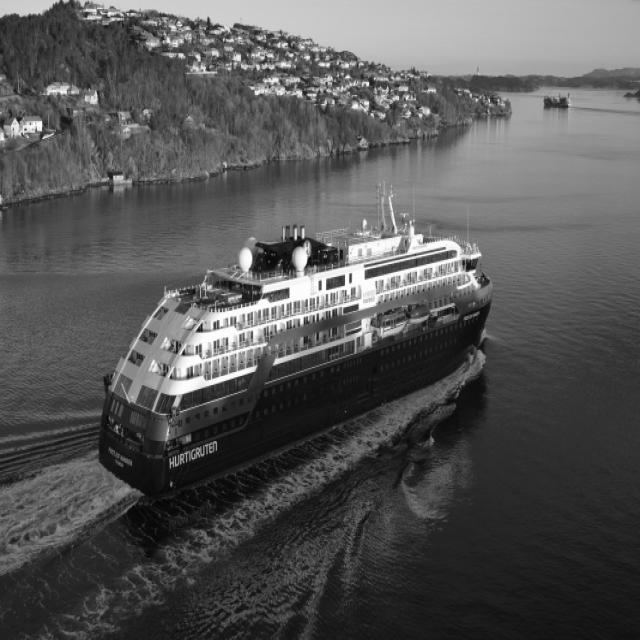cruises: (95, 191, 497, 506)
